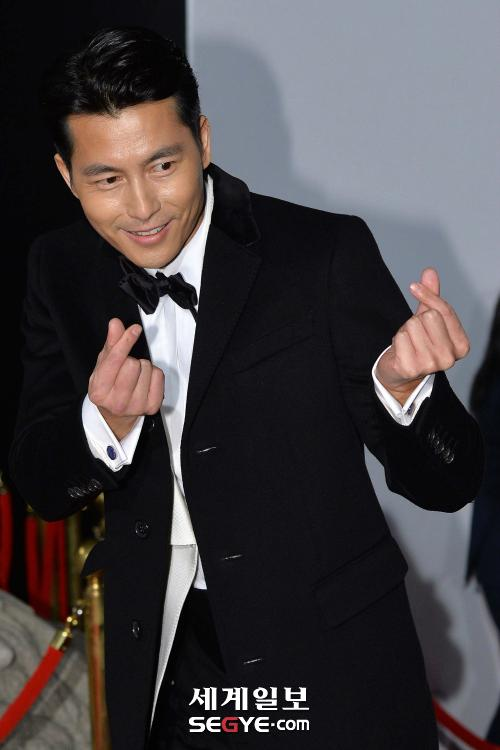heart gesture: (101, 315, 145, 357), (408, 266, 443, 310)
